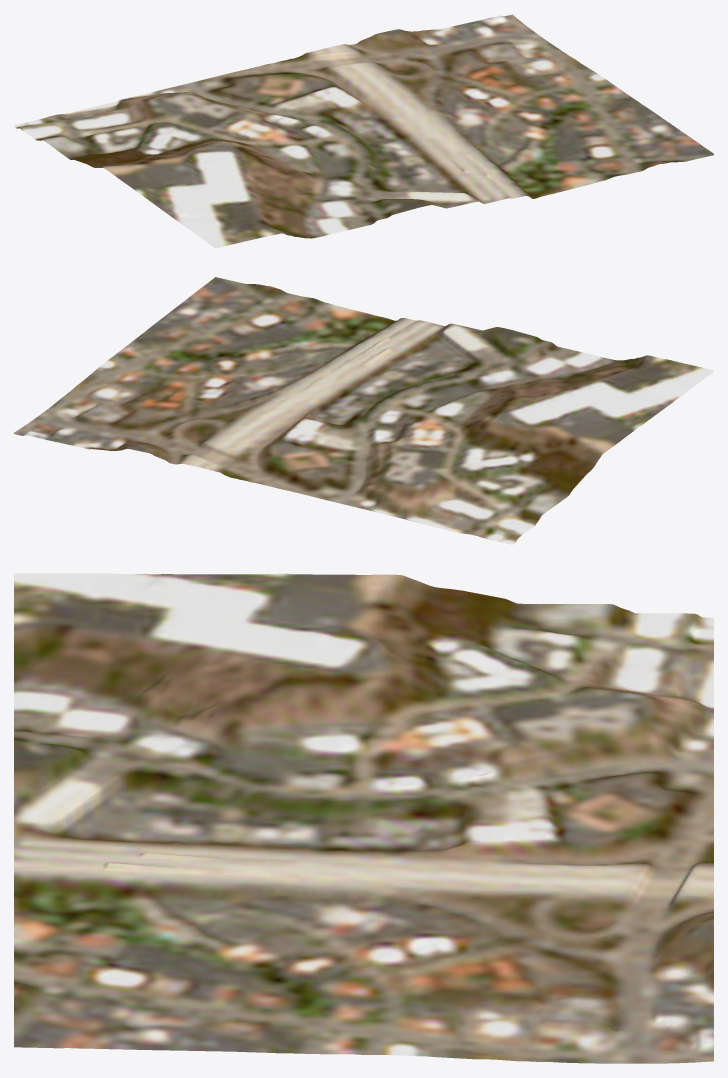
Rendered from terrain_r3_c7.glb.
The picture shows the model from 3 angles, top to bottom: view 1: azimuth 30°, elevation 25°; view 2: azimuth 150°, elevation 25°; view 3: azimuth 270°, elevation 25°; orthographic projection. The views are drawn at different scales.
Visible parts, largest first — view 1: terrain_r3_c7_lod0; view 2: terrain_r3_c7_lod0; view 3: terrain_r3_c7_lod0.
Boxes of the visible parts, x1=… form: terrain_r3_c7_lod0: x1=14, y1=14, x2=713, y2=248; terrain_r3_c7_lod0: x1=14, y1=277, x2=713, y2=544; terrain_r3_c7_lod0: x1=14, y1=573, x2=713, y2=1063.
Size of the model in its own units: 1125 by 84.94 by 787.
Materials: 1 (1 with a texture image).
